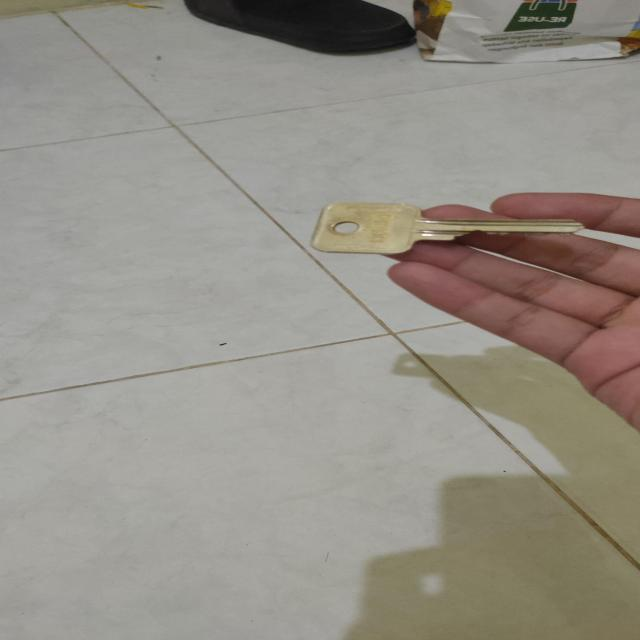kunci_kos: (300, 200, 587, 259)
